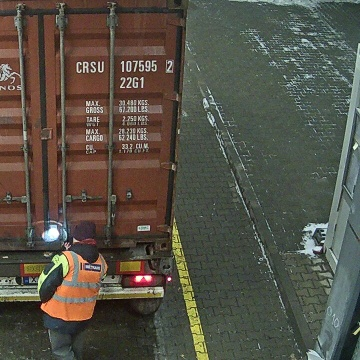serial_id: (76, 60, 172, 73)
